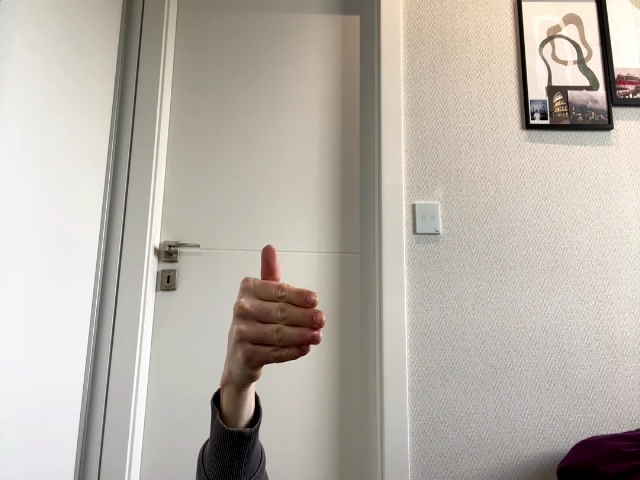M: (229, 245, 326, 380)
